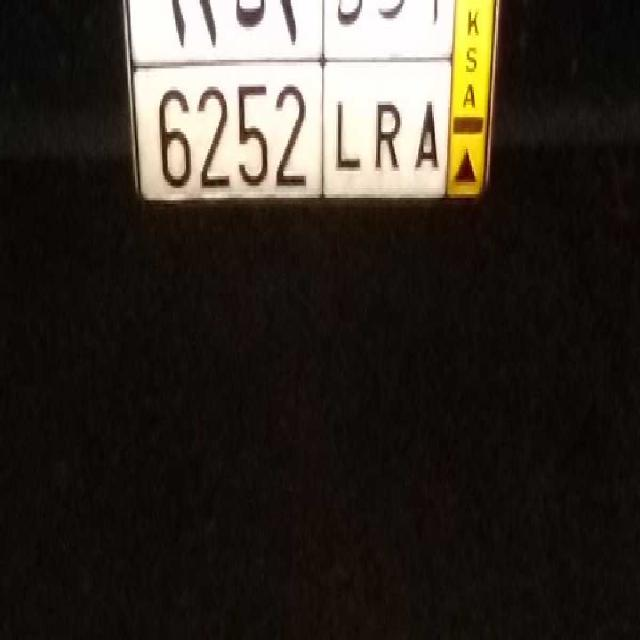license_plate: (133, 59, 444, 218)
